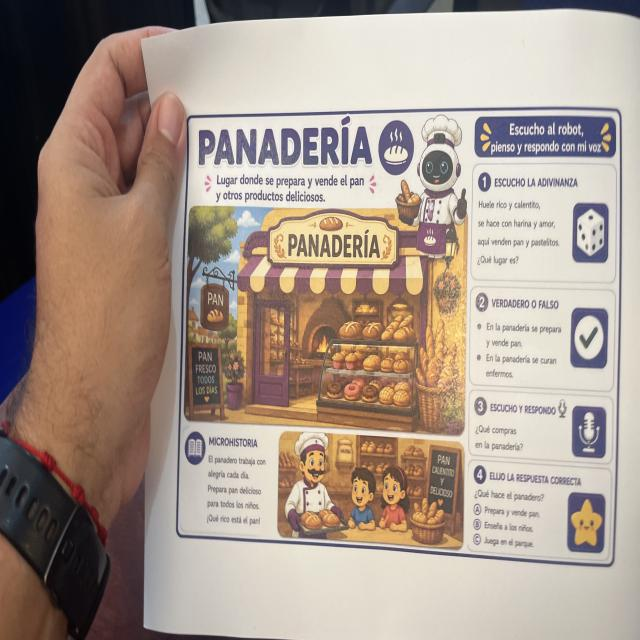panaderia: (172, 100, 626, 576)
